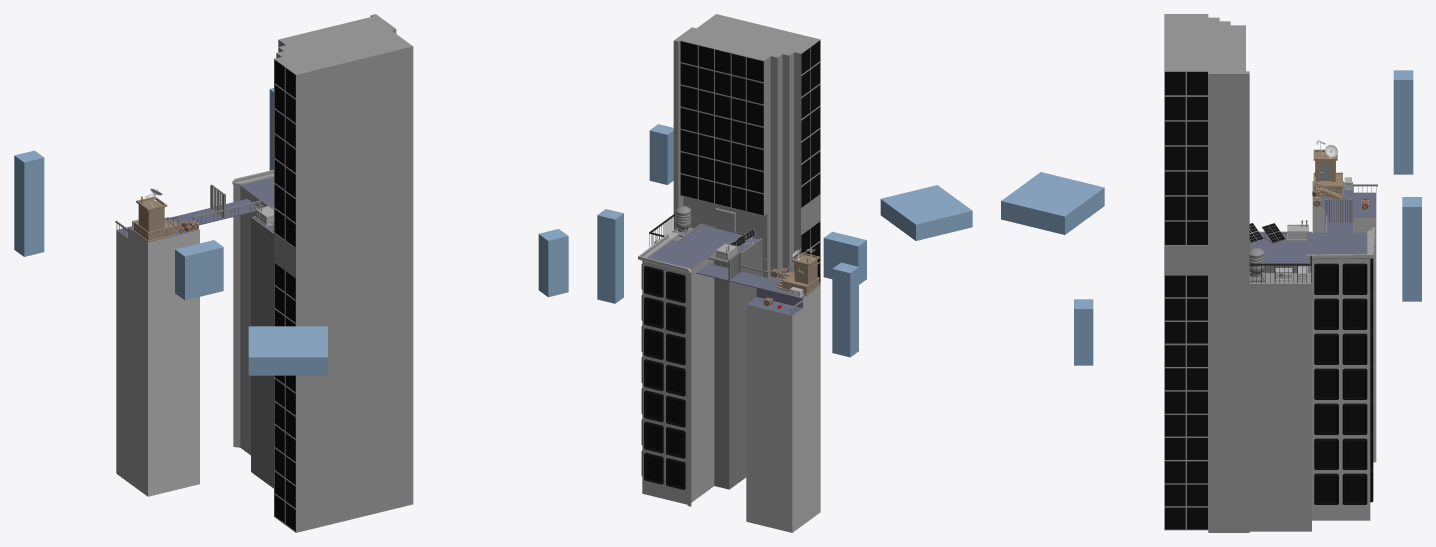
Rendered from Tutorial.fbx.
3 views of the same model, side by side, from view 1: azimuth 30°, elevation 25°; view 2: azimuth 150°, elevation 25°; view 3: azimuth 270°, elevation 25° (orthographic). The views are drawn at different scales.
Parts seen in each view (by area): view 1: Cube__17_.001, Cube__16_, Cube__18_, Cube__17_, Cube__25_, Cube__27_, Cube__28_, Cube__32_, Cube.008, Cube__15_; view 2: Cube__17_.001, Cube__18_, Cube__16_, Cube__17_, Cube__25_, Cube__27_, Cube__26_, Cube__28_, Cube__32_, Cube.008, Cube__15_, Cylinder; view 3: Cube__17_.001, Cube__18_, Cube__24_, Cube__25_, Cube__16_, Cube__27_, Cube__26_, Cube__17_, Cube.008, Cube__32_, Cube__15_, Cylinder.
Boxes of the visible parts, x1=… form: Cube__17_.001: x1=274, y1=14, x2=413, y2=532; Cube__16_: x1=116, y1=215, x2=199, y2=496; Cube__18_: x1=232, y1=169, x2=273, y2=455; Cube__17_: x1=251, y1=216, x2=273, y2=488; Cube__25_: x1=248, y1=326, x2=327, y2=375; Cube__27_: x1=14, y1=150, x2=44, y2=256; Cube__28_: x1=175, y1=240, x2=223, y2=300; Cube__32_: x1=538, y1=229, x2=568, y2=297; Cube.008: x1=132, y1=188, x2=179, y2=242; Cube__15_: x1=180, y1=199, x2=258, y2=225; Cube__17_.001: x1=673, y1=14, x2=820, y2=284; Cube__18_: x1=638, y1=234, x2=715, y2=506; Cube__16_: x1=746, y1=277, x2=820, y2=532; Cube__17_: x1=677, y1=223, x2=762, y2=489; Cube__25_: x1=880, y1=185, x2=972, y2=240; Cube__27_: x1=832, y1=262, x2=858, y2=357; Cube__26_: x1=597, y1=209, x2=623, y2=303; Cube__28_: x1=823, y1=231, x2=866, y2=284; Cube__32_: x1=649, y1=124, x2=673, y2=184; Cube.008: x1=776, y1=244, x2=820, y2=295; Cube__15_: x1=696, y1=263, x2=768, y2=287; Cylinder: x1=672, y1=206, x2=692, y2=237; Cube__17_.001: x1=1164, y1=14, x2=1249, y2=532; Cube__18_: x1=1306, y1=227, x2=1374, y2=520; Cube__24_: x1=1249, y1=273, x2=1311, y2=531; Cube__25_: x1=1001, y1=172, x2=1104, y2=234; Cube__16_: x1=1312, y1=182, x2=1376, y2=462; Cube__27_: x1=1393, y1=70, x2=1413, y2=174; Cube__26_: x1=1402, y1=197, x2=1421, y2=301; Cube__17_: x1=1249, y1=231, x2=1311, y2=272; Cube.008: x1=1312, y1=139, x2=1343, y2=198; Cube__32_: x1=1074, y1=299, x2=1093, y2=365; Cube__15_: x1=1324, y1=207, x2=1352, y2=232; Cylinder: x1=1249, y1=247, x2=1265, y2=282.
Bounding box in the file's own units: 4136 × 4703 × 3907.
